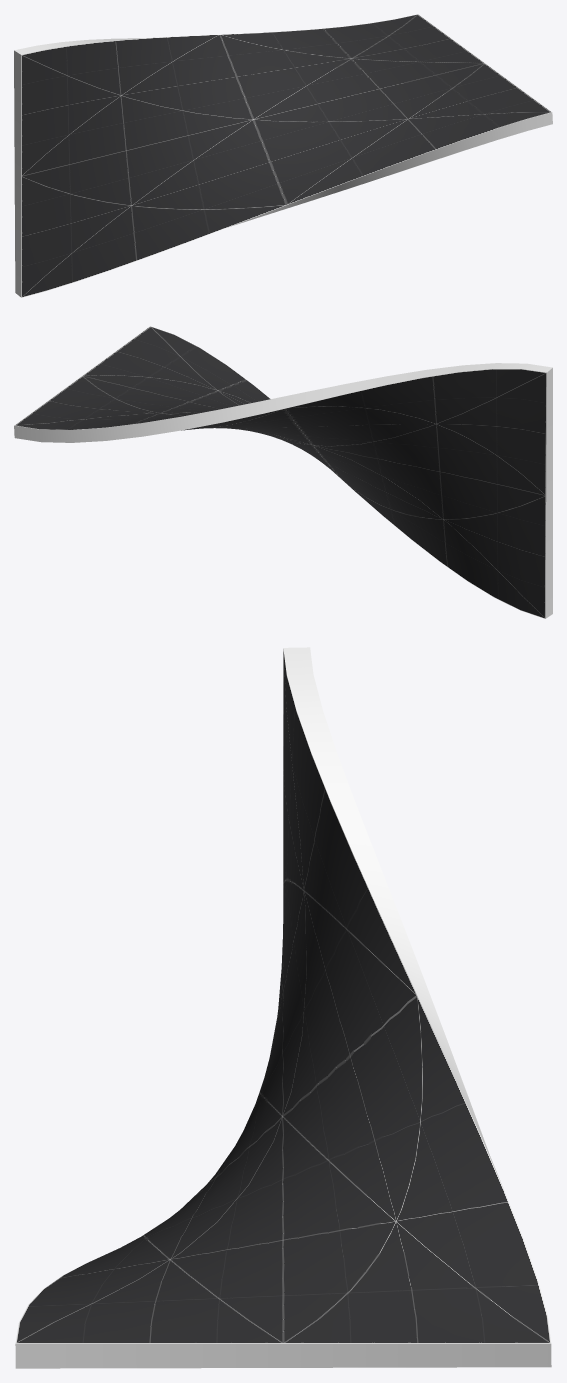
The model's file is TiltTransitionLeft.glb.
3 views of the same model, one above another, from view 1: azimuth 30°, elevation 25°; view 2: azimuth 150°, elevation 25°; view 3: azimuth 270°, elevation 25° (orthographic). The views are drawn at different scales.
Parts seen in each view (by area): view 1: TiltTransitionLeft; view 2: TiltTransitionLeft; view 3: TiltTransitionLeft.
Part boxes in pixels (x1,y1,x2,y2): TiltTransitionLeft: [14, 14, 552, 297]; TiltTransitionLeft: [14, 326, 552, 618]; TiltTransitionLeft: [15, 647, 551, 1368].
Size of the model in its own units: 20.06 by 10 by 10.
Materials: 1 (1 with a texture image).
